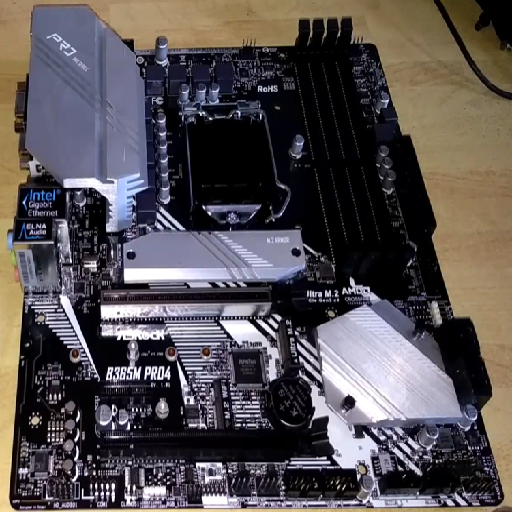CPU: (172, 95, 294, 230)
GPU: (87, 421, 338, 458), (93, 281, 303, 319)
MOTHERBOARD: (5, 5, 507, 505)
RAM: (280, 10, 416, 289)
SSD: (192, 372, 249, 434), (268, 315, 306, 373)
